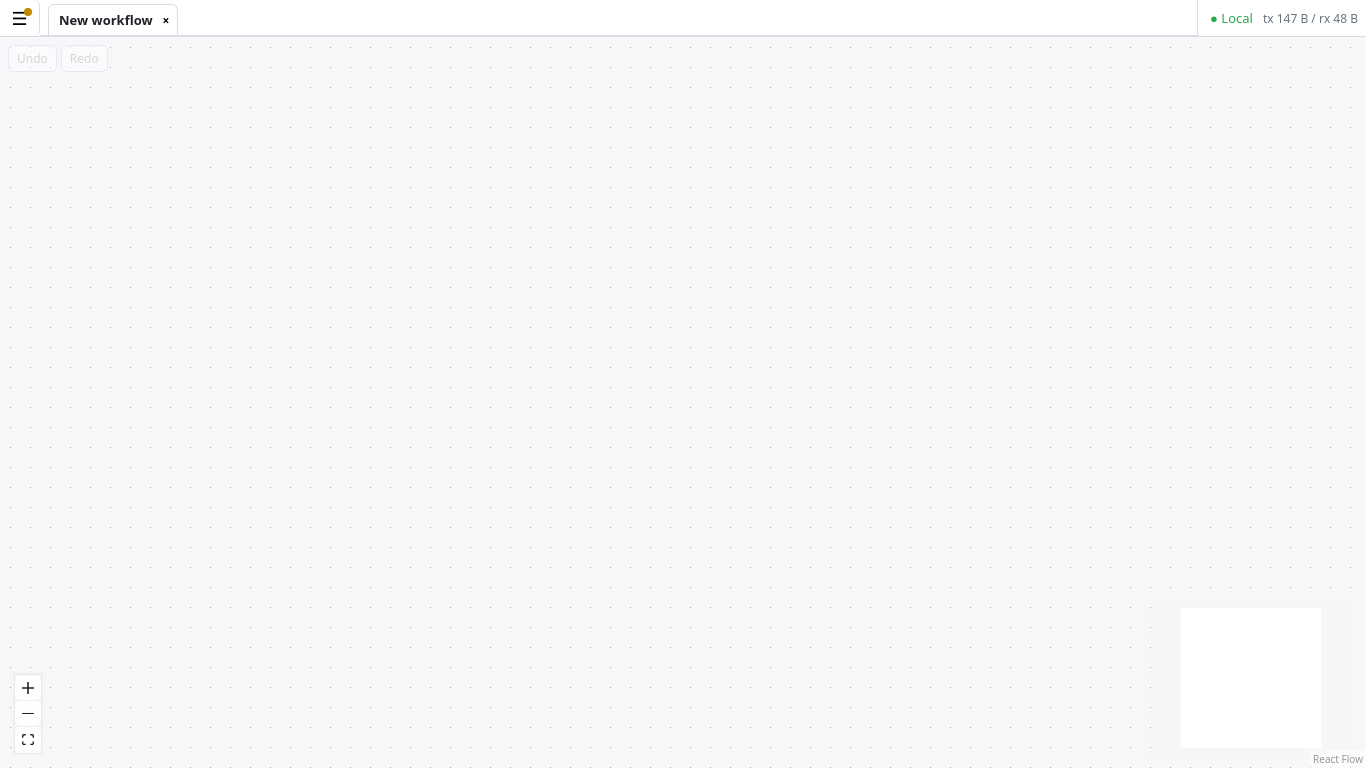
Test: напоминание о выгрузке (T101, US3 #2) › сохранение недоступно — баннер с объяснением
Click the button named "Menu" at (20, 18), box [0,0,40,36]
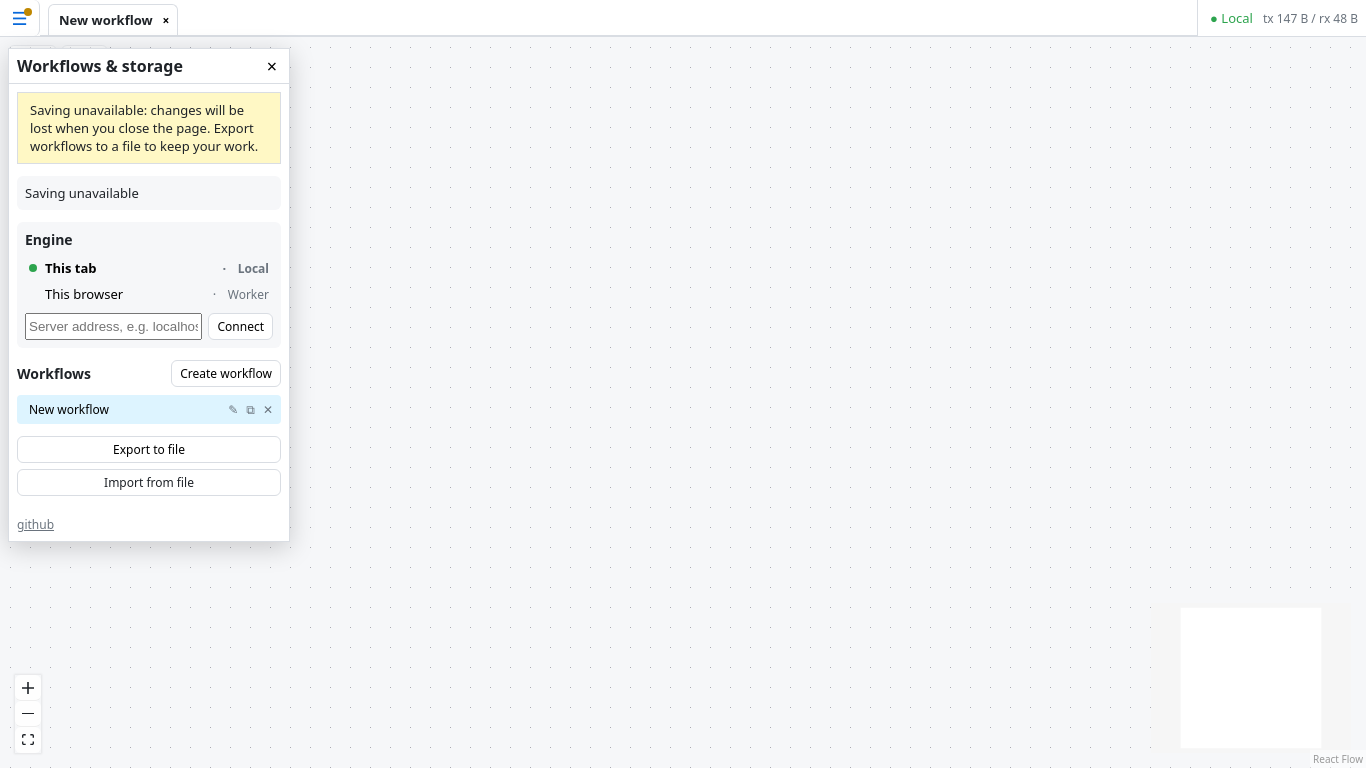
Expected: the element with test id "storage-indicator" reads "Saving unavailable", [25,184,139,202]
Expected: the element named "Storage" shows "Export workflows", [30,101,258,155]
